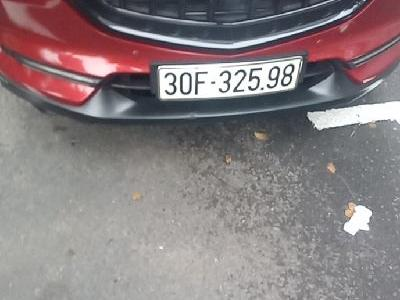lisence: (156, 57, 302, 102)
